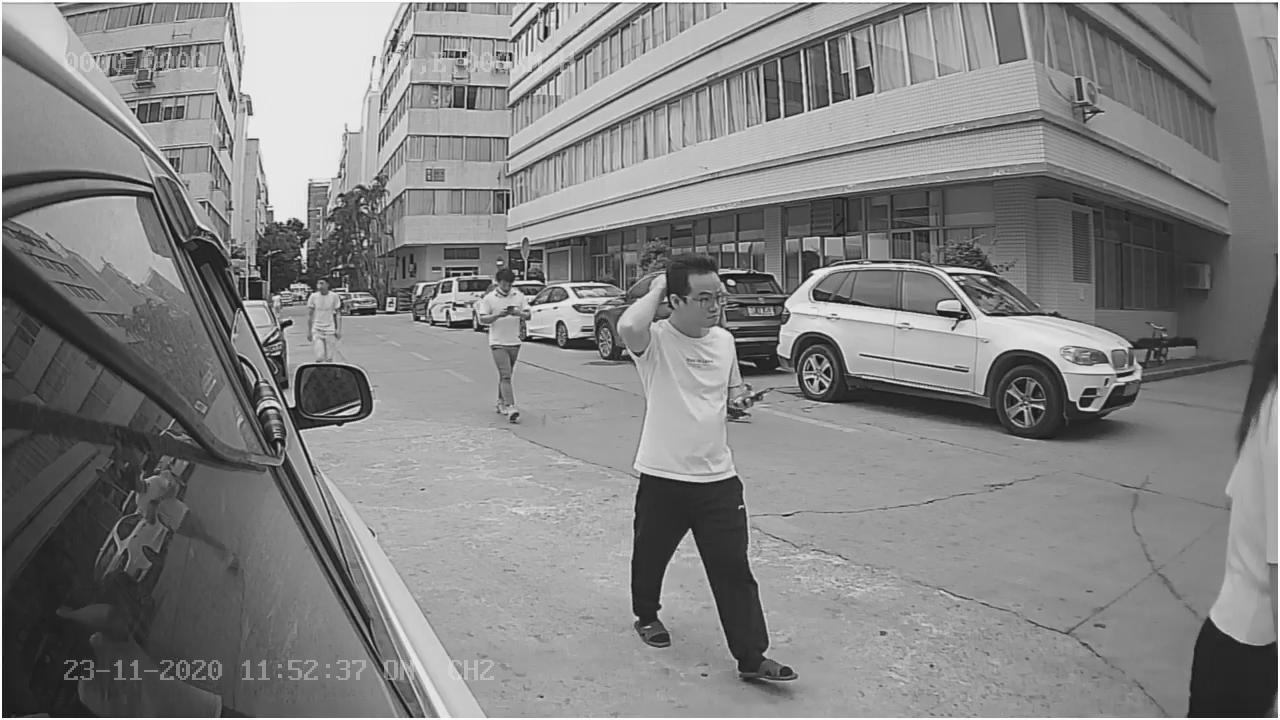person: (613, 254, 777, 674)
